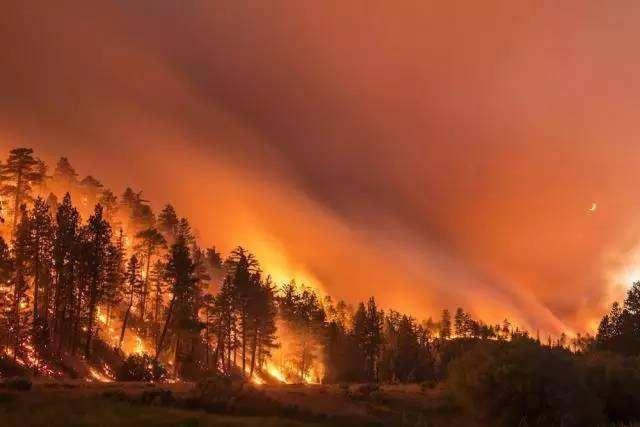fire: (206, 314, 331, 387), (79, 295, 179, 385), (2, 284, 63, 380), (250, 240, 325, 309), (553, 307, 622, 354)
